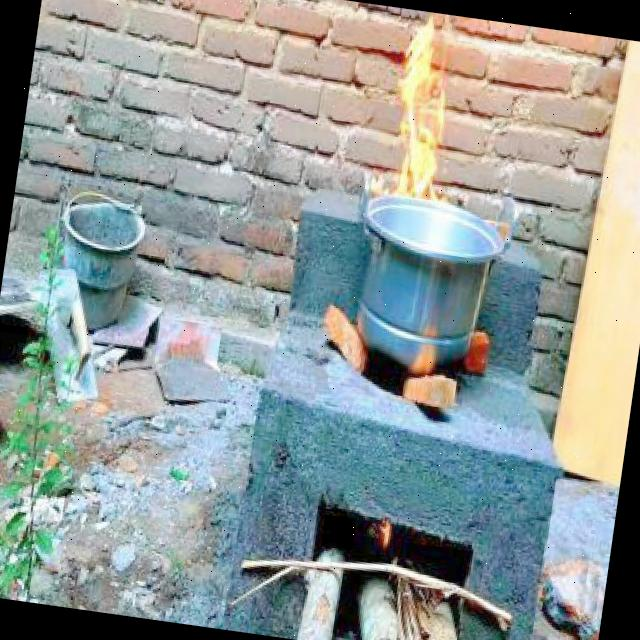fire: (363, 15, 474, 227), (406, 309, 452, 386), (375, 505, 400, 552)
